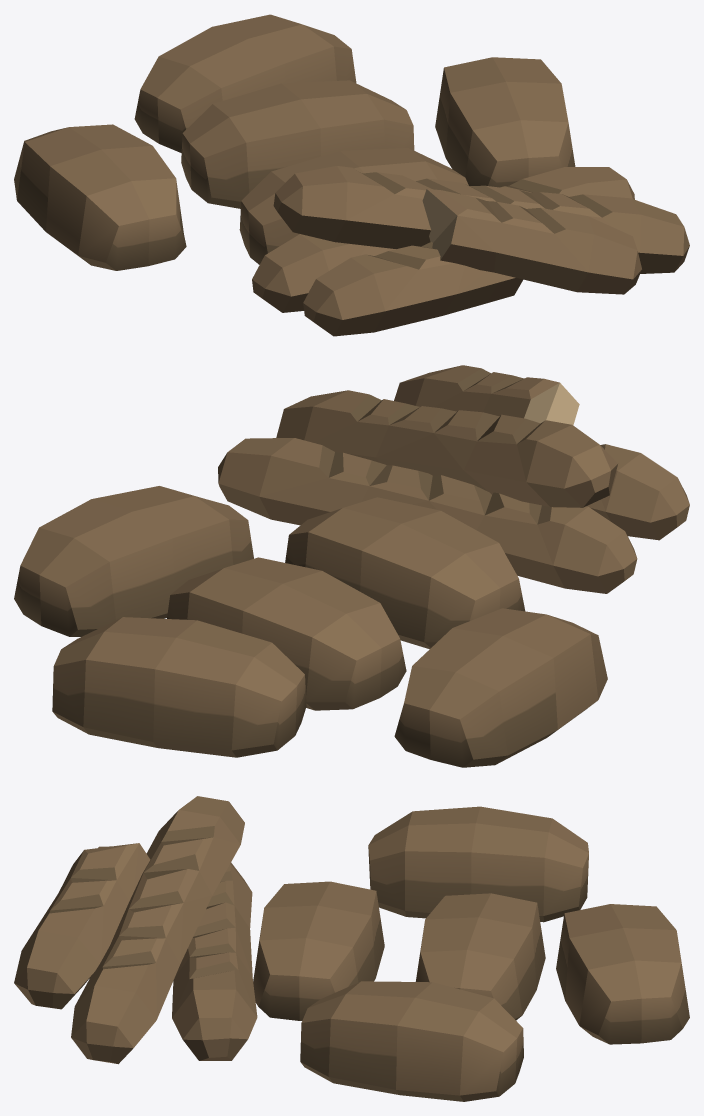
File: SM_Prop_Cart_Tray_Bread_01.glb
The picture shows the model from 3 angles, top to bottom: view 1: azimuth 30°, elevation 25°; view 2: azimuth 150°, elevation 25°; view 3: azimuth 270°, elevation 25°; orthographic projection. The views are drawn at different scales.
Visible parts, largest first — view 1: SM_Prop_Cart_Tray_Bread_01; view 2: SM_Prop_Cart_Tray_Bread_01; view 3: SM_Prop_Cart_Tray_Bread_01.
Part boxes in pixels (box(x1,y1,x2,y2)): SM_Prop_Cart_Tray_Bread_01: box(14, 14, 689, 336); SM_Prop_Cart_Tray_Bread_01: box(14, 365, 689, 767); SM_Prop_Cart_Tray_Bread_01: box(14, 796, 689, 1101).
Bounding box in the file's own units: 0.9566 × 0.2609 × 1.18.
1 material, 1 textured.
